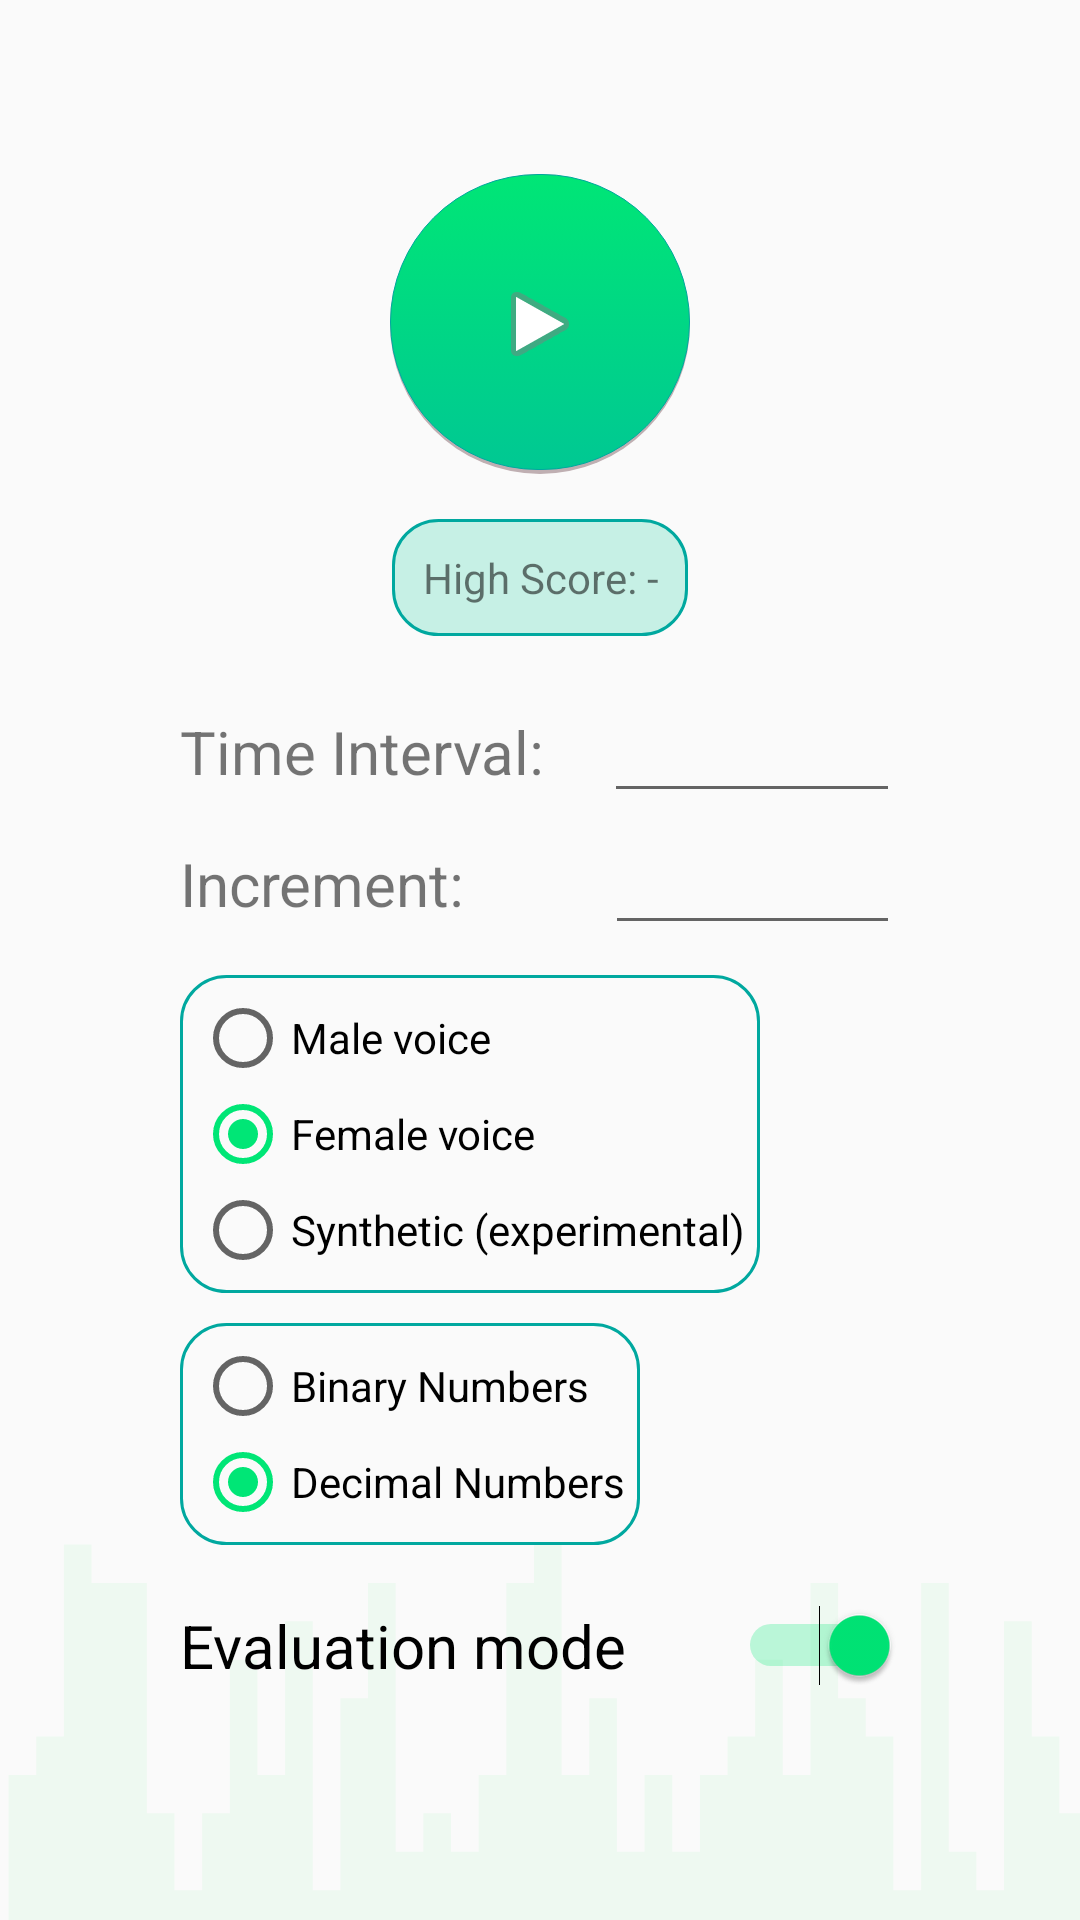

Where icons sit on this 1080 × 1920 app screen, as (x1,y1,x2,y2):
Begin training: (390,174,690,474)
